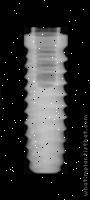BioHorizons: (24, 27, 68, 175)
